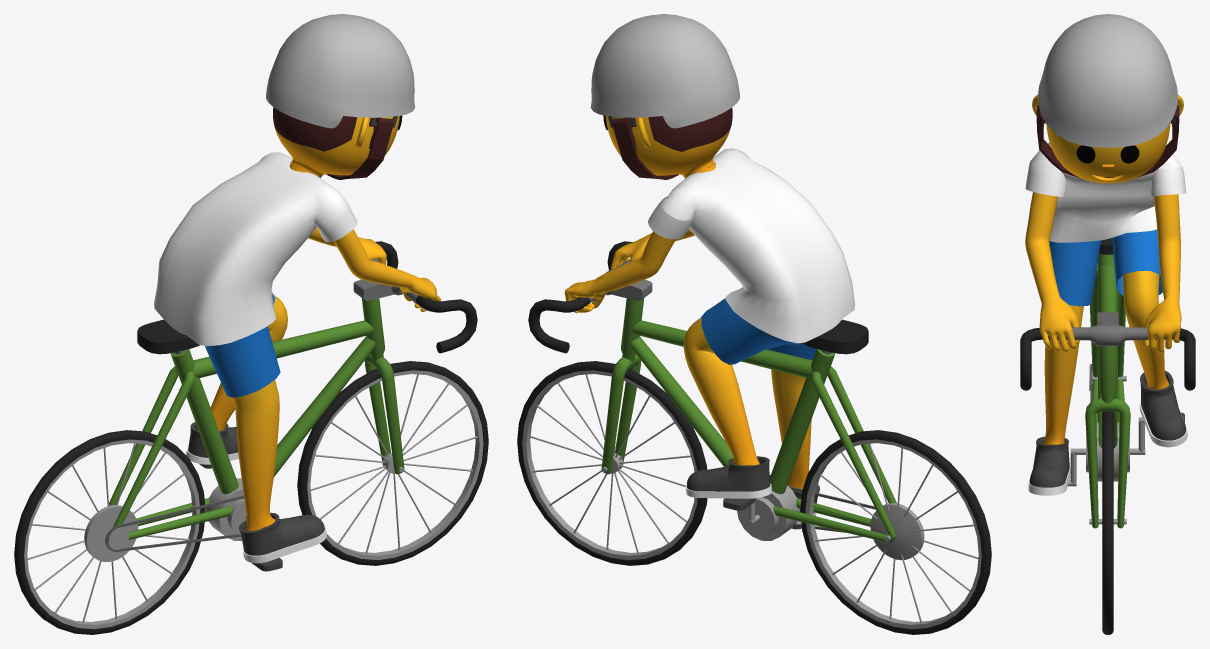
File: person_biking.gltf
3 renders of one model, left to right at view 1: azimuth 30°, elevation 25°; view 2: azimuth 150°, elevation 25°; view 3: azimuth 270°, elevation 25°, orthographic. The views are drawn at different scales.
Parts seen in each view (by area): view 1: Circle.196, Circle.191, Cube.307, Roundcube.477, Sphere.450, Circle.198, Sphere.449; view 2: Circle.196, Circle.191, Cube.307, Roundcube.477, Sphere.449, Circle.198; view 3: Circle.191, Cube.307, Circle.196, Roundcube.477, Sphere.449, Sphere.450, Circle.198, Circle.192.
Part boxes in pixels (box(x1,y1,x2,y2)): Circle.196: box(14, 241, 488, 634); Circle.191: box(154, 152, 441, 530); Cube.307: box(266, 14, 415, 128); Roundcube.477: box(273, 107, 399, 177); Sphere.450: box(238, 512, 326, 563); Circle.198: box(326, 118, 393, 179); Sphere.449: box(186, 422, 238, 464); Circle.196: box(517, 241, 991, 634); Circle.191: box(564, 148, 854, 489); Cube.307: box(590, 14, 739, 128); Roundcube.477: box(605, 107, 732, 178); Sphere.449: box(685, 456, 771, 498); Circle.198: box(612, 118, 678, 179); Circle.191: box(1025, 142, 1186, 444); Cube.307: box(1038, 14, 1177, 147); Circle.196: box(1020, 238, 1195, 634); Roundcube.477: box(1046, 123, 1170, 183); Sphere.449: box(1139, 370, 1187, 447); Sphere.450: box(1028, 436, 1070, 495); Circle.198: box(1036, 105, 1179, 179); Circle.192: box(1076, 145, 1139, 163).
Size of the model in its own units: 2.05 by 2.3 by 0.6372.
2 materials, 2 textured.
